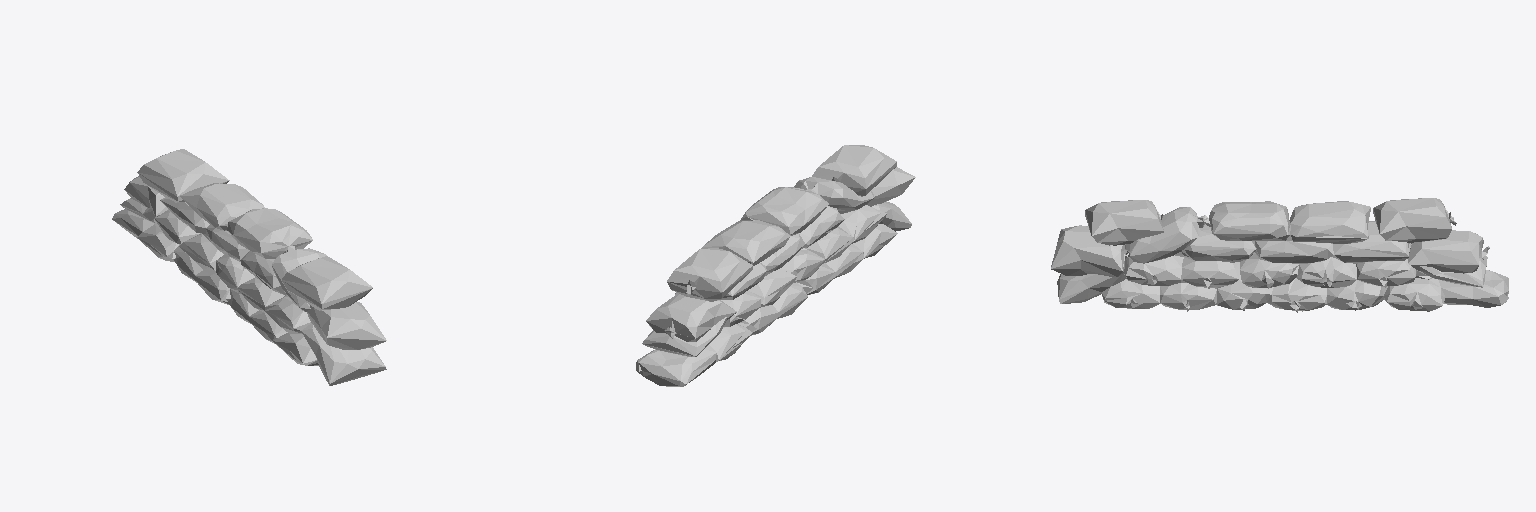
The picture shows the model from 3 angles: view 1: azimuth 30°, elevation 25°; view 2: azimuth 150°, elevation 25°; view 3: azimuth 270°, elevation 25°; orthographic projection.
Parts seen in each view (by area): view 1: sandbags_01; view 2: sandbags_01; view 3: sandbags_01.
Boxes of the visible parts, <box> form: sandbags_01: <box>112,149,386,385</box>; sandbags_01: <box>636,145,915,386</box>; sandbags_01: <box>1051,198,1508,312</box>.
Size of the model in its own units: 1.03 by 1.15 by 4.92.